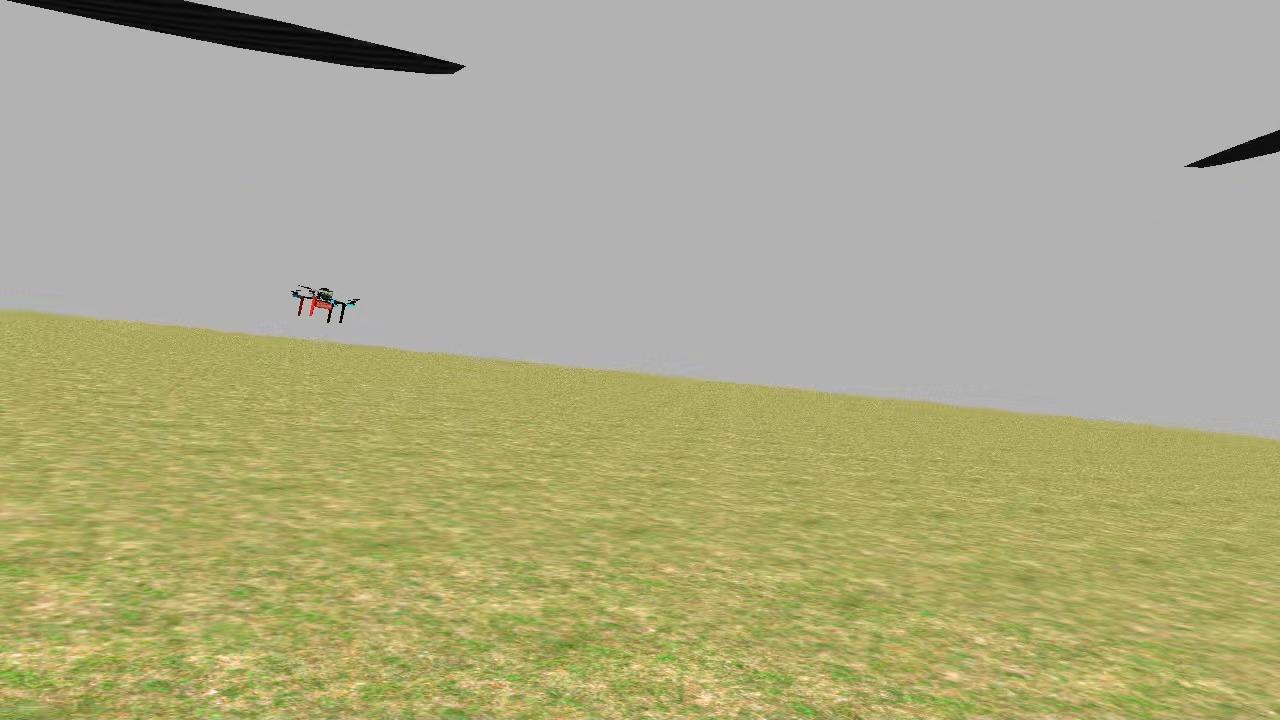UAV: (280, 280, 364, 332)
